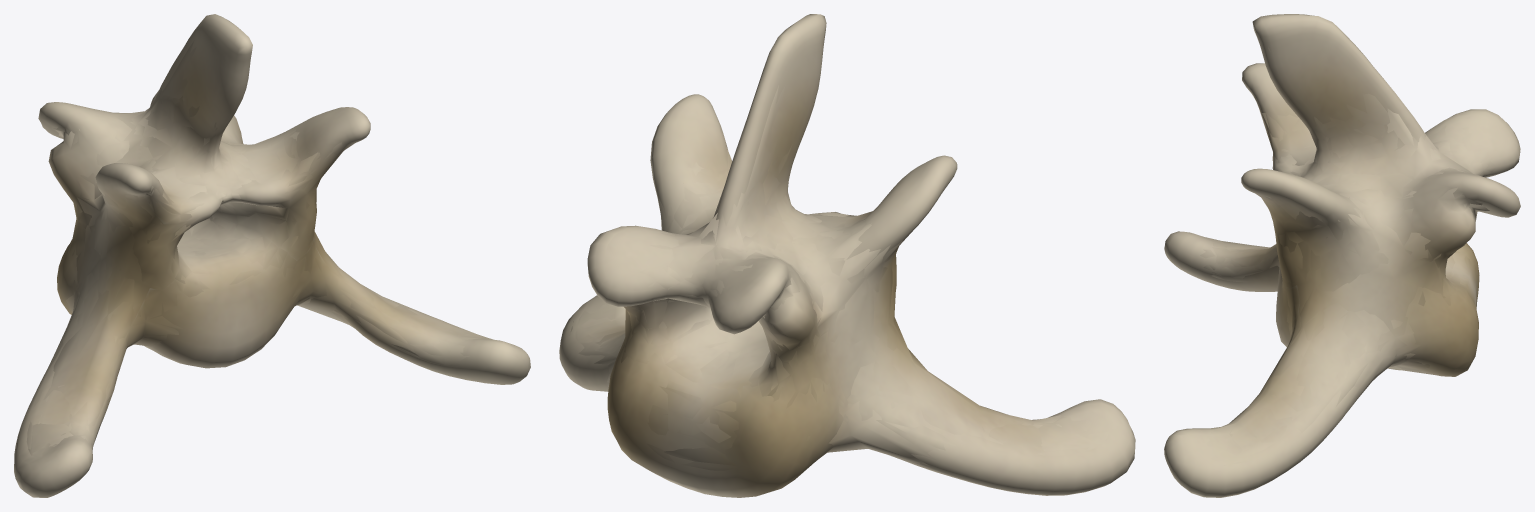
Rendered from vertebrae lumbales 5.fbx.
3 renders of one model, left to right at view 1: azimuth 30°, elevation 25°; view 2: azimuth 150°, elevation 25°; view 3: azimuth 270°, elevation 25°, orthographic. The views are drawn at different scales.
Visible parts, largest first — view 1: vertebrae lumbales 5 high, vertebrae lumbales 5 low, vertebrae lumbales 5; view 2: vertebrae lumbales 5 high, vertebrae lumbales 5 low, vertebrae lumbales 5; view 3: vertebrae lumbales 5 high, vertebrae lumbales 5, vertebrae lumbales 5 low.
Part boxes in pixels (x1,y1,x2,y2): vertebrae lumbales 5 high: [14, 14, 530, 497]; vertebrae lumbales 5 low: [28, 95, 460, 455]; vertebrae lumbales 5: [26, 40, 494, 456]; vertebrae lumbales 5 high: [559, 14, 1135, 497]; vertebrae lumbales 5 low: [579, 147, 1101, 465]; vertebrae lumbales 5: [570, 85, 1108, 470]; vertebrae lumbales 5 high: [1164, 14, 1520, 497]; vertebrae lumbales 5: [1200, 47, 1496, 465]; vertebrae lumbales 5 low: [1208, 95, 1489, 436].
Bounding box in the file's own units: 11.25 × 8.27 × 7.17.
